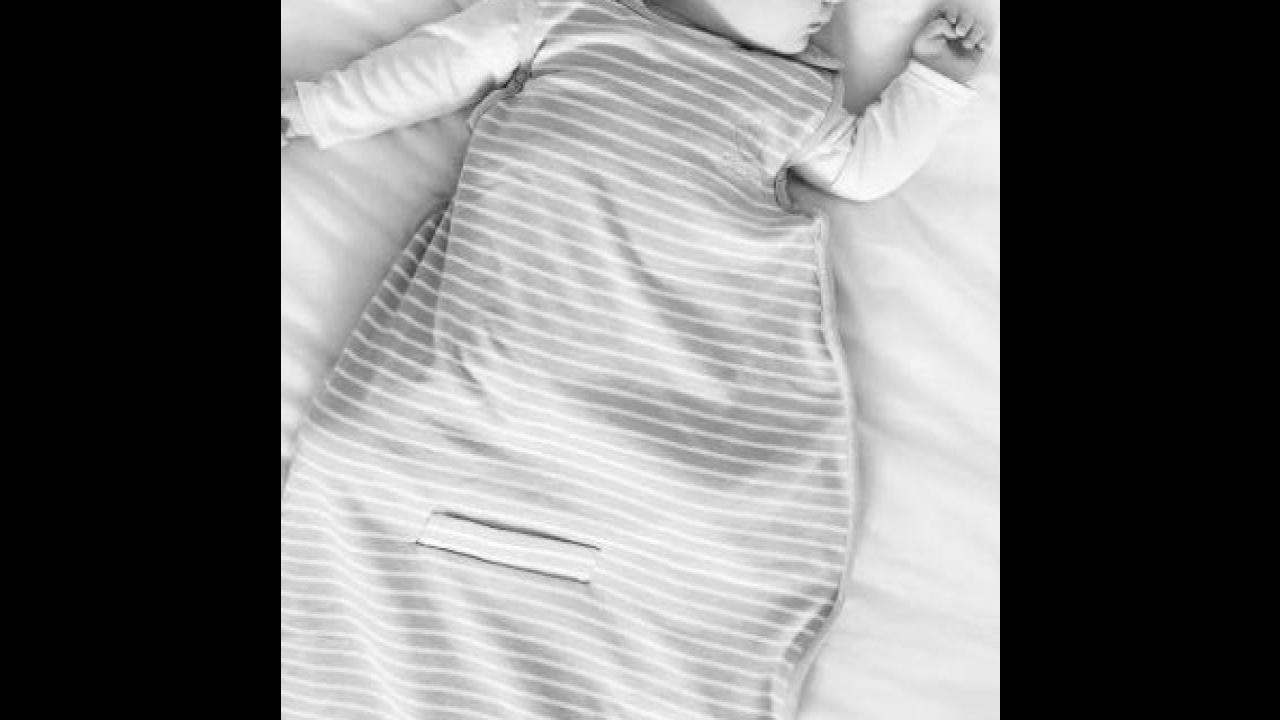hand: (906, 3, 998, 85), (280, 72, 316, 168)
